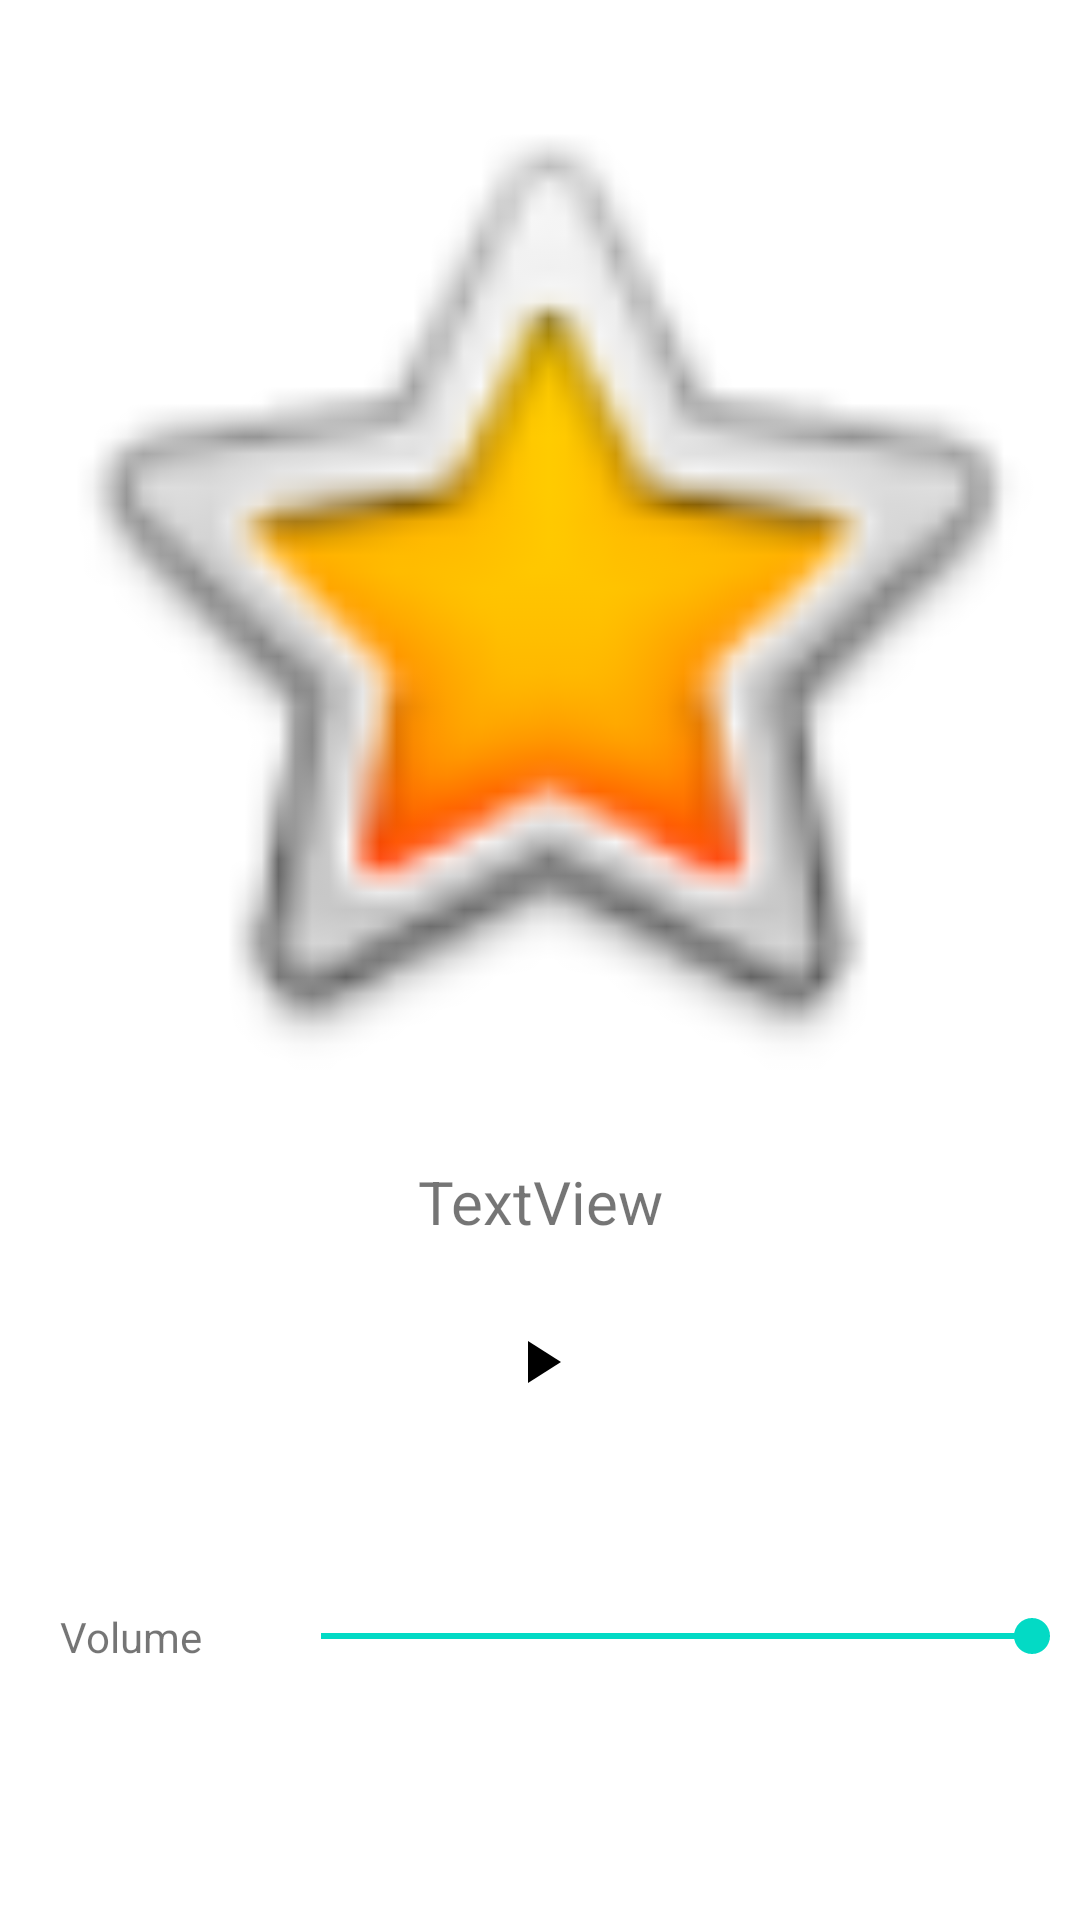

Icons on this 1080×1920 Android screen, each with the point to tap as [x,y]:
play arrow: [544,1362]
